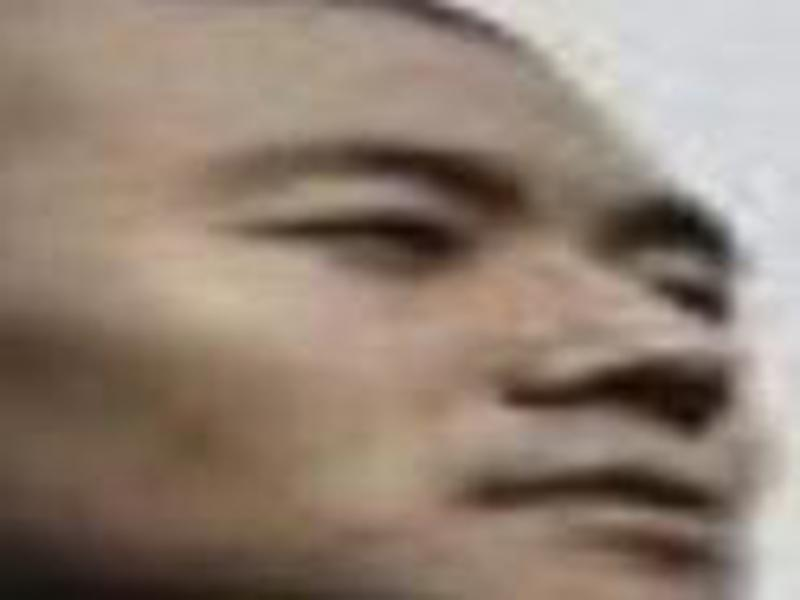without_mask: (10, 6, 770, 600)
